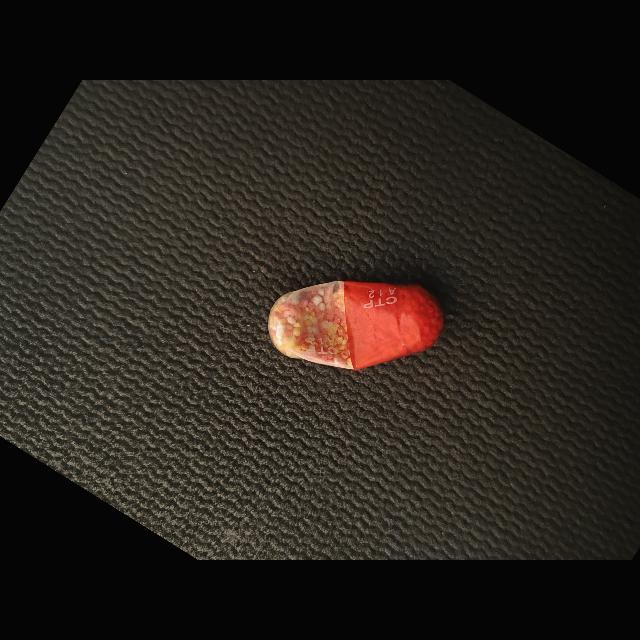Defective Capsule: (268, 281, 444, 371)
